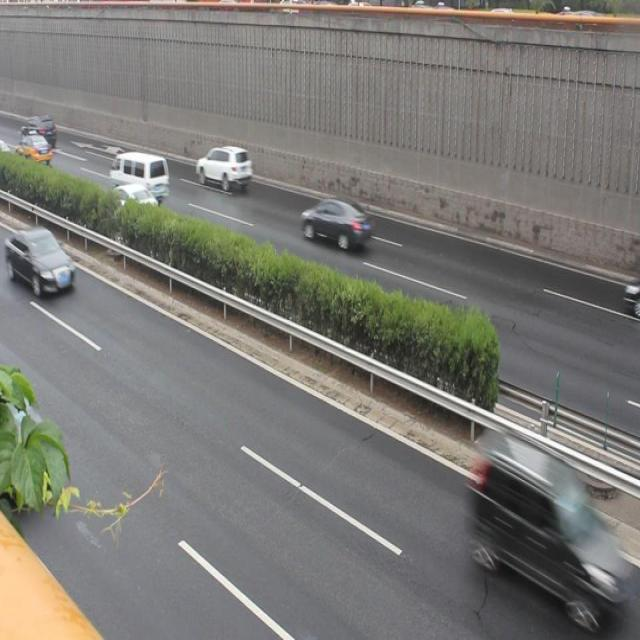car: (472, 434, 596, 596), (10, 223, 75, 294), (298, 195, 368, 252), (96, 181, 156, 231), (196, 142, 251, 192)
truck: (110, 150, 169, 200)
